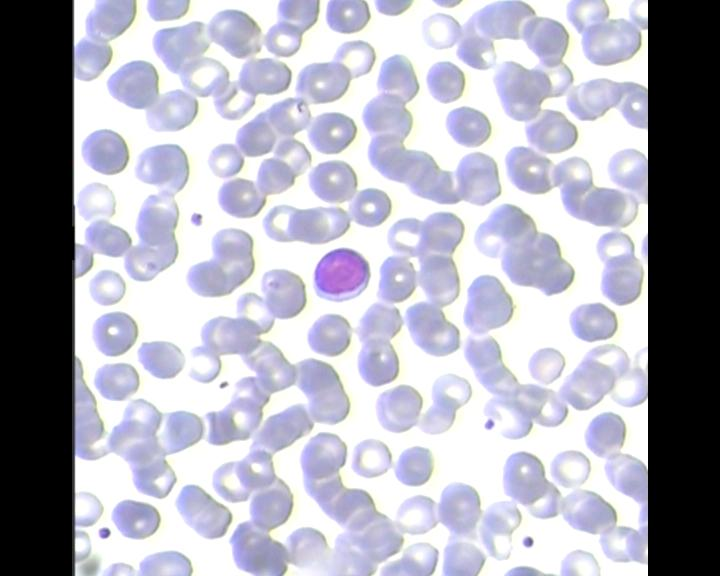lymp: (308, 245, 372, 304)
